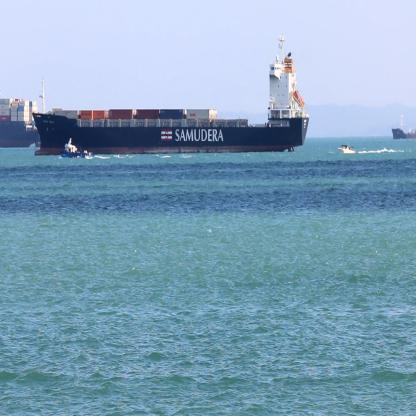Container Ship: (31, 34, 310, 156), (0, 97, 38, 149), (391, 112, 416, 141)
